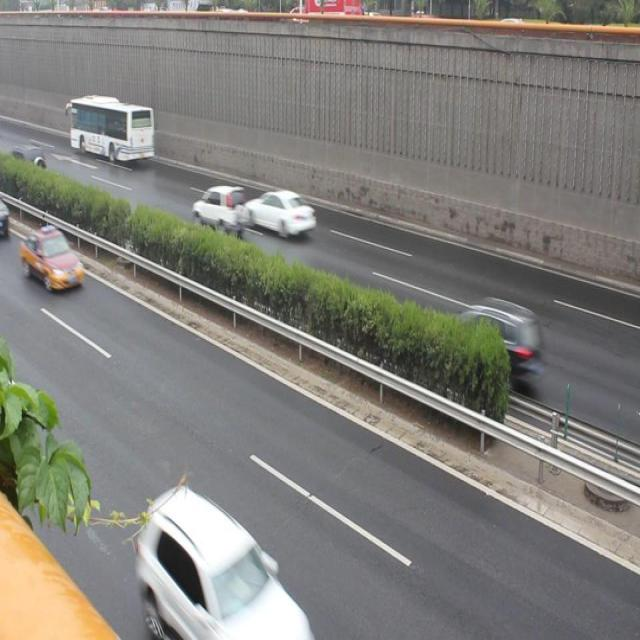car: (140, 492, 307, 640), (443, 290, 541, 384), (21, 224, 91, 302), (246, 184, 315, 246), (192, 180, 252, 237), (9, 138, 52, 182)
van: (68, 94, 156, 168)
